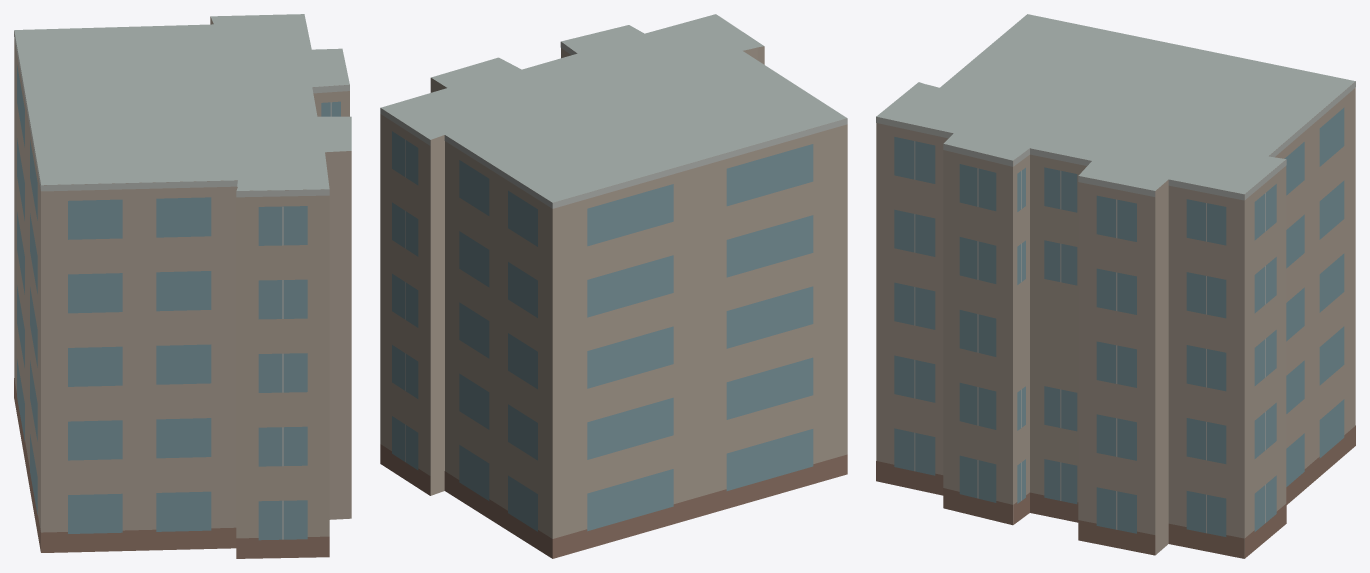
File: survey-upis-32894256.glb
3 renders of one model, left to right at view 1: azimuth 30°, elevation 25°; view 2: azimuth 150°, elevation 25°; view 3: azimuth 270°, elevation 25°, orthographic. The views are drawn at different scales.
Visible parts, largest first — view 1: survey-upis-32894256.tmp; view 2: survey-upis-32894256.tmp; view 3: survey-upis-32894256.tmp.
Boxes of the visible parts, bbox=[...] form: survey-upis-32894256.tmp: bbox=[14, 14, 351, 558]; survey-upis-32894256.tmp: bbox=[380, 14, 847, 558]; survey-upis-32894256.tmp: bbox=[876, 14, 1355, 558].
Bounding box in the file's own units: 15.18 × 14.3 × 17.06.
